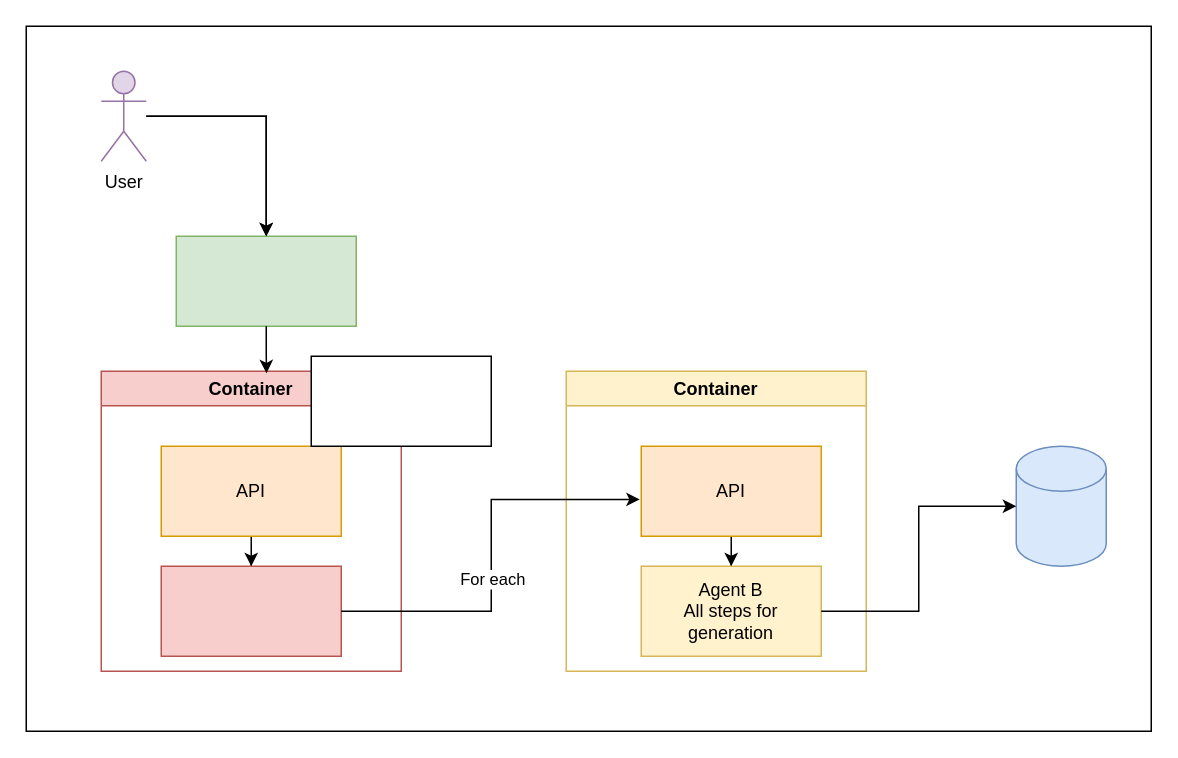
Image size: 1178x758. Some labels were removed from this diagram. The box of each missing label's shape, as (x1, y1, x2, y2) in pixels:
Agent A Axis of Exploration and Unit of Analysis: (160, 565, 341, 656)
File System: (1015, 445, 1106, 566)
Frontend: (175, 235, 356, 326)
